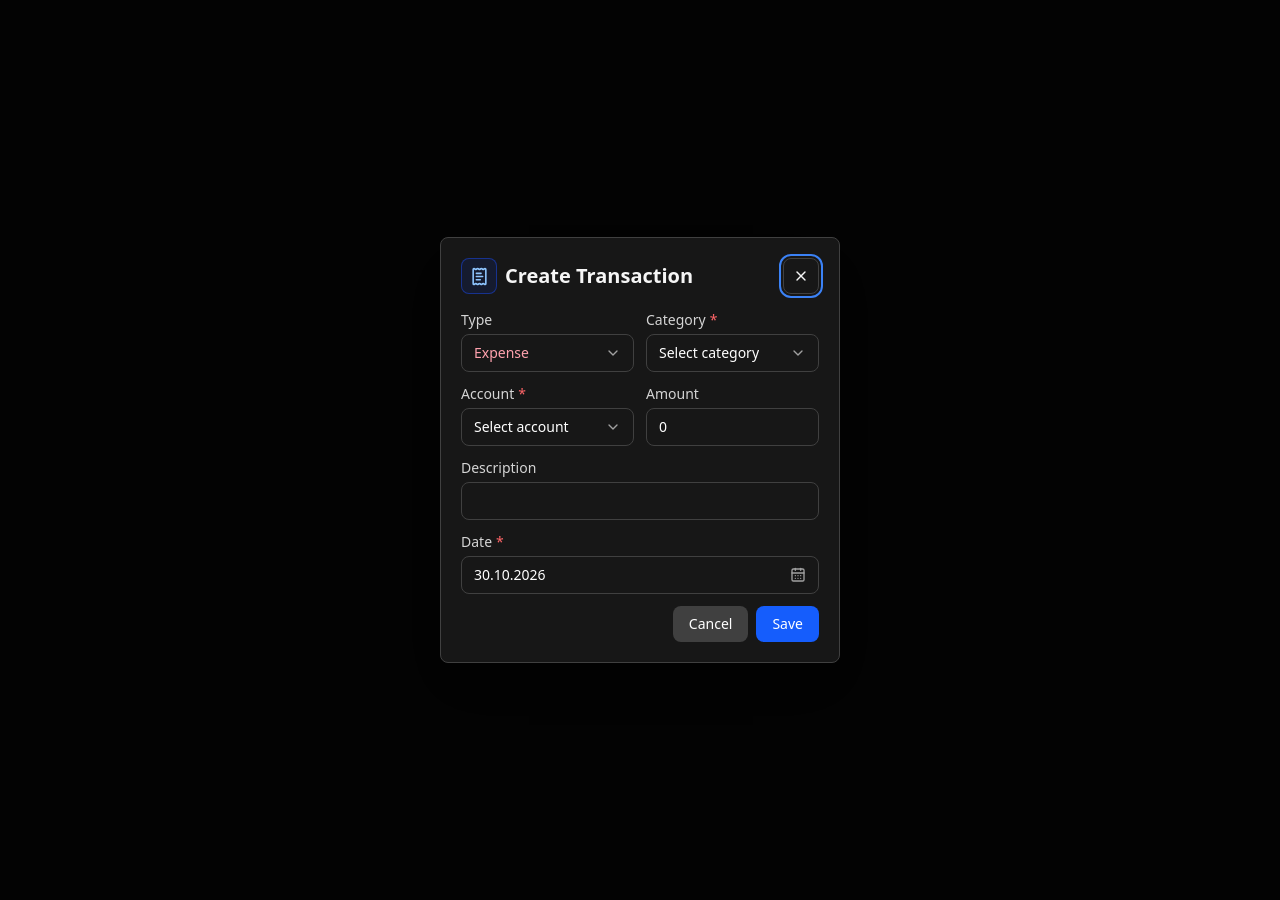
Test: internal transaction modal category fields › requires a channel for Buy Channels before submitting
Click the button "Select category".
click(732, 353)  # box [646,334,819,372]
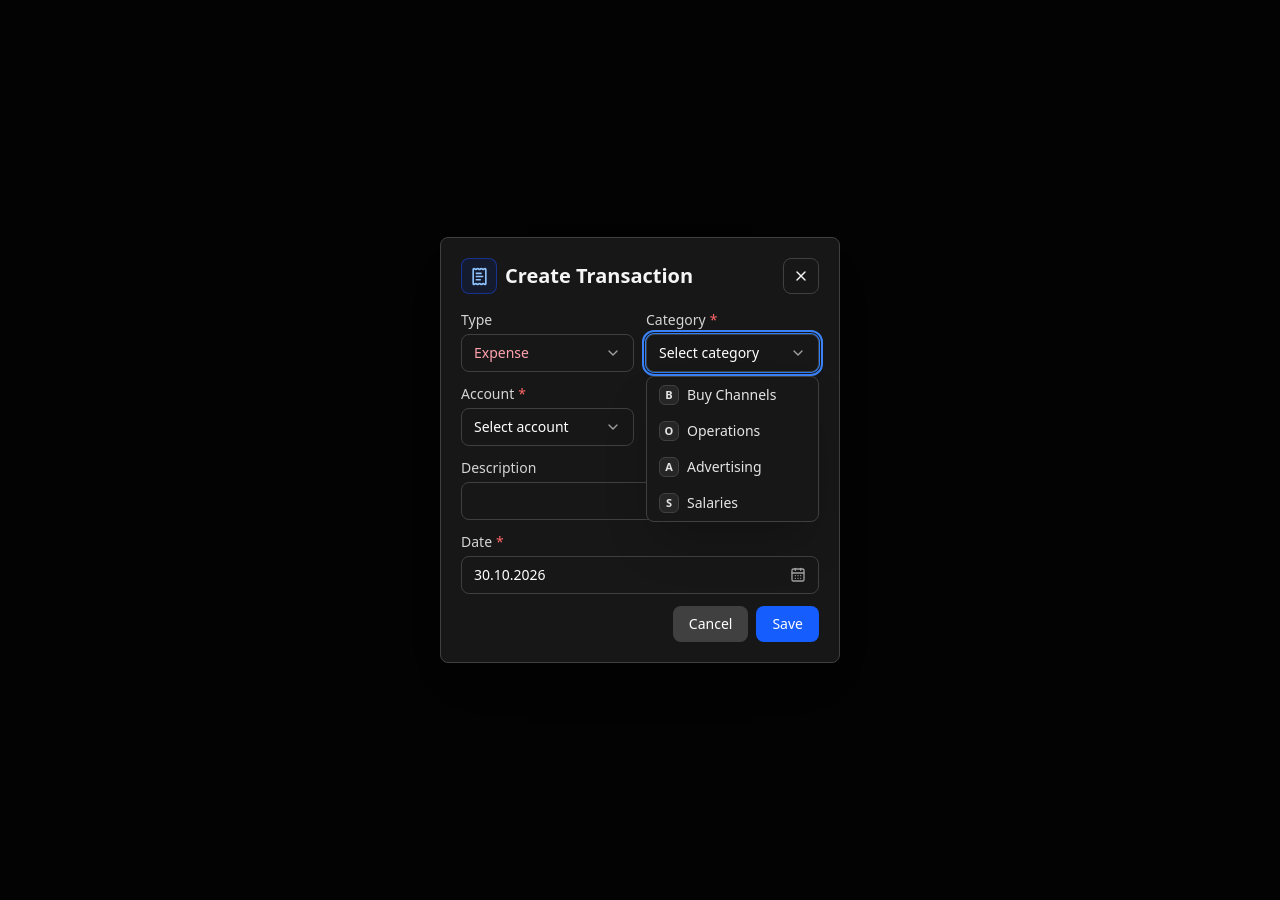
Click the button "B Buy Channels".
click(732, 395)  # box [647,377,818,413]
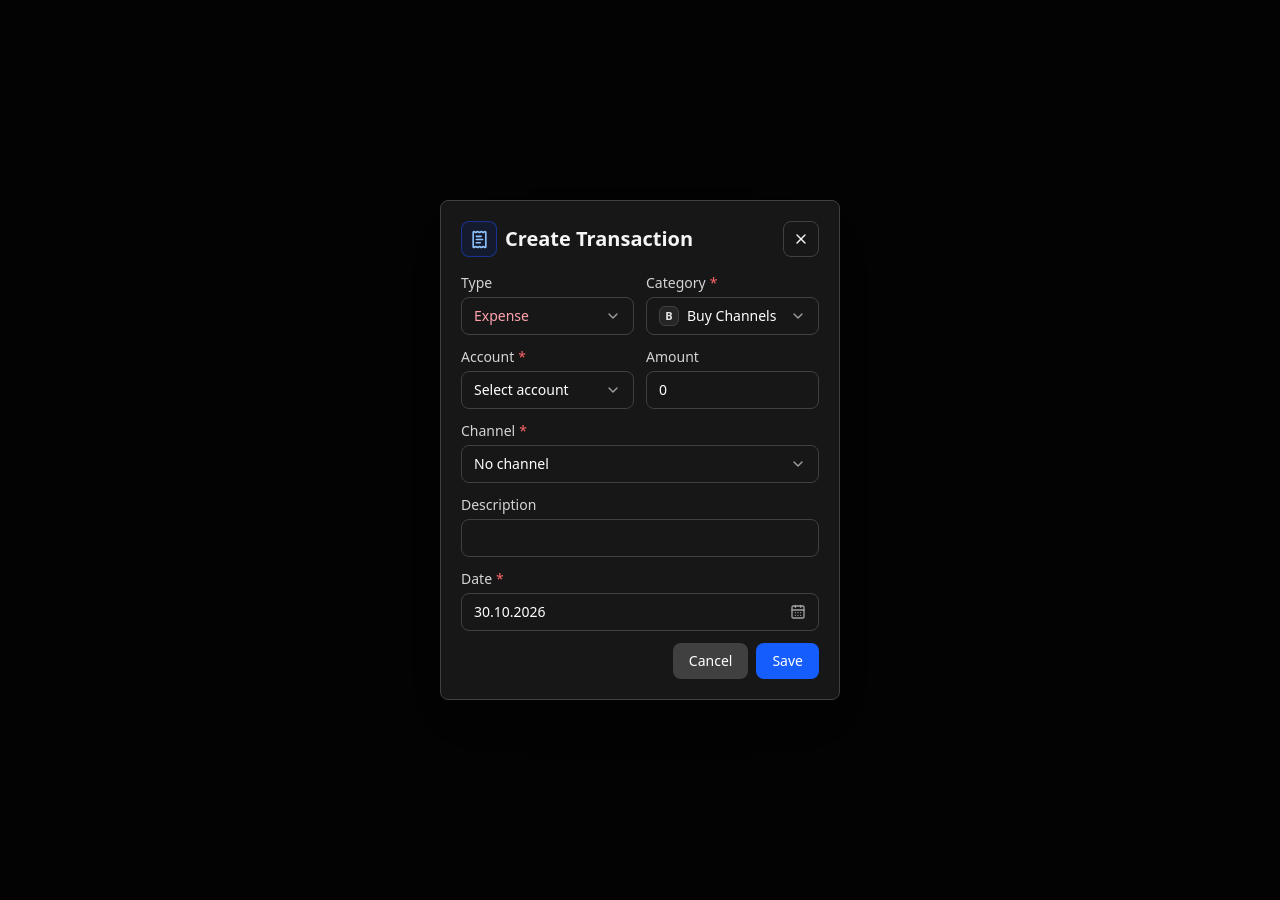
Click the button "Save".
click(788, 661)  # box [756,643,819,679]
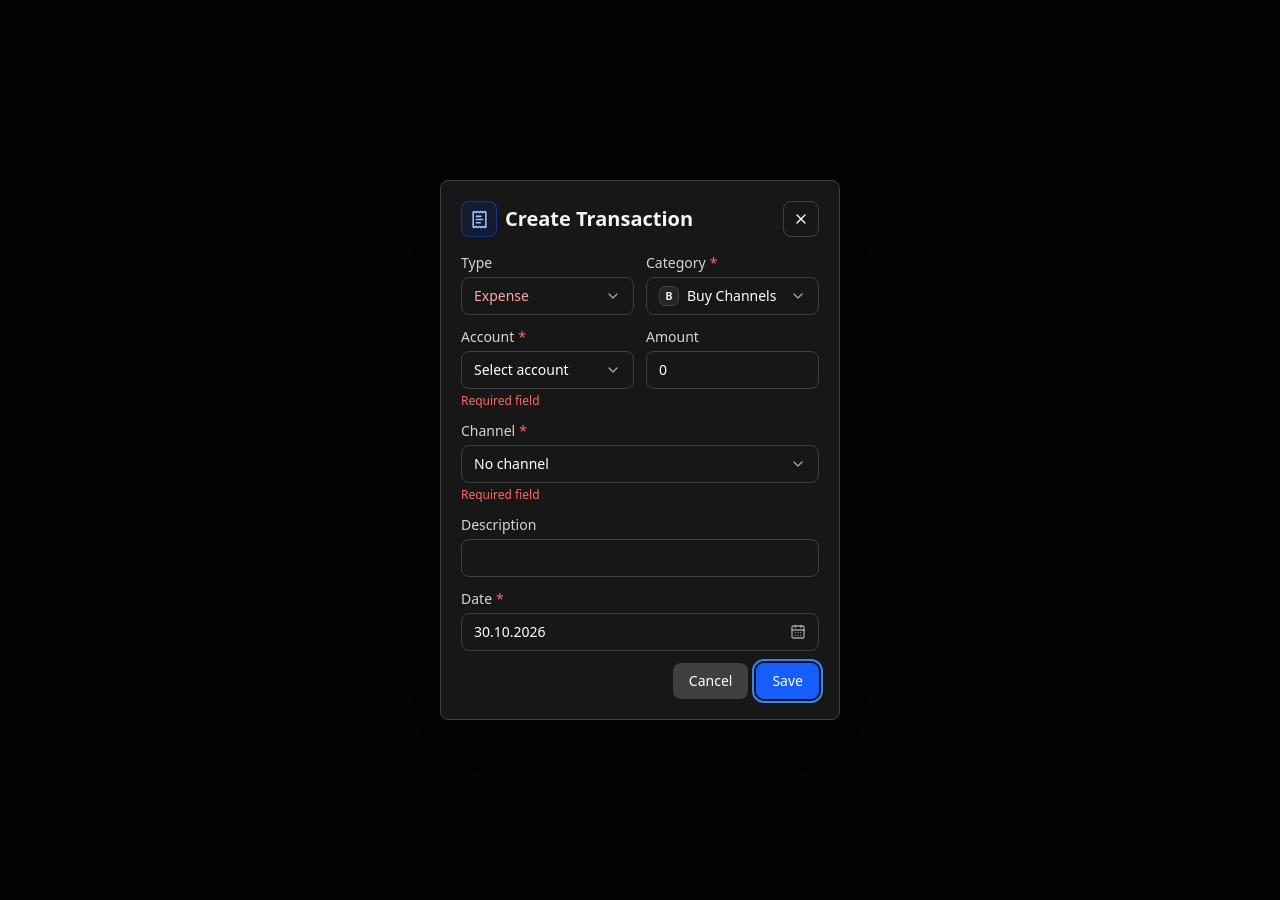
Now the element showing "Channel* No channel Required field" is shown, box [461,421,819,503]
Now the 2nd text "Required field" is shown, box [461,486,540,503]
